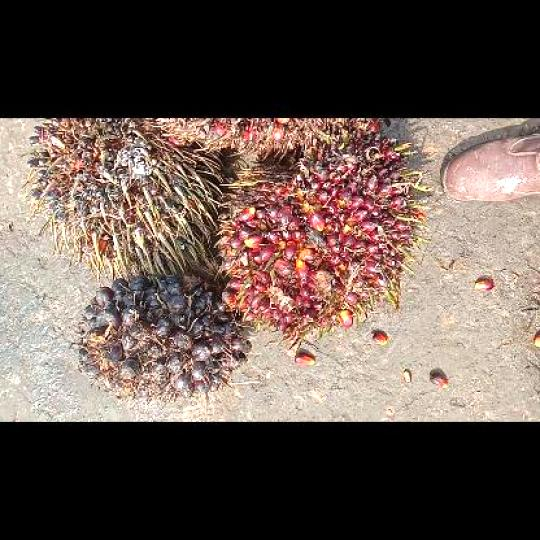masak: (217, 140, 424, 338)
terlalu masak: (154, 118, 386, 155)
